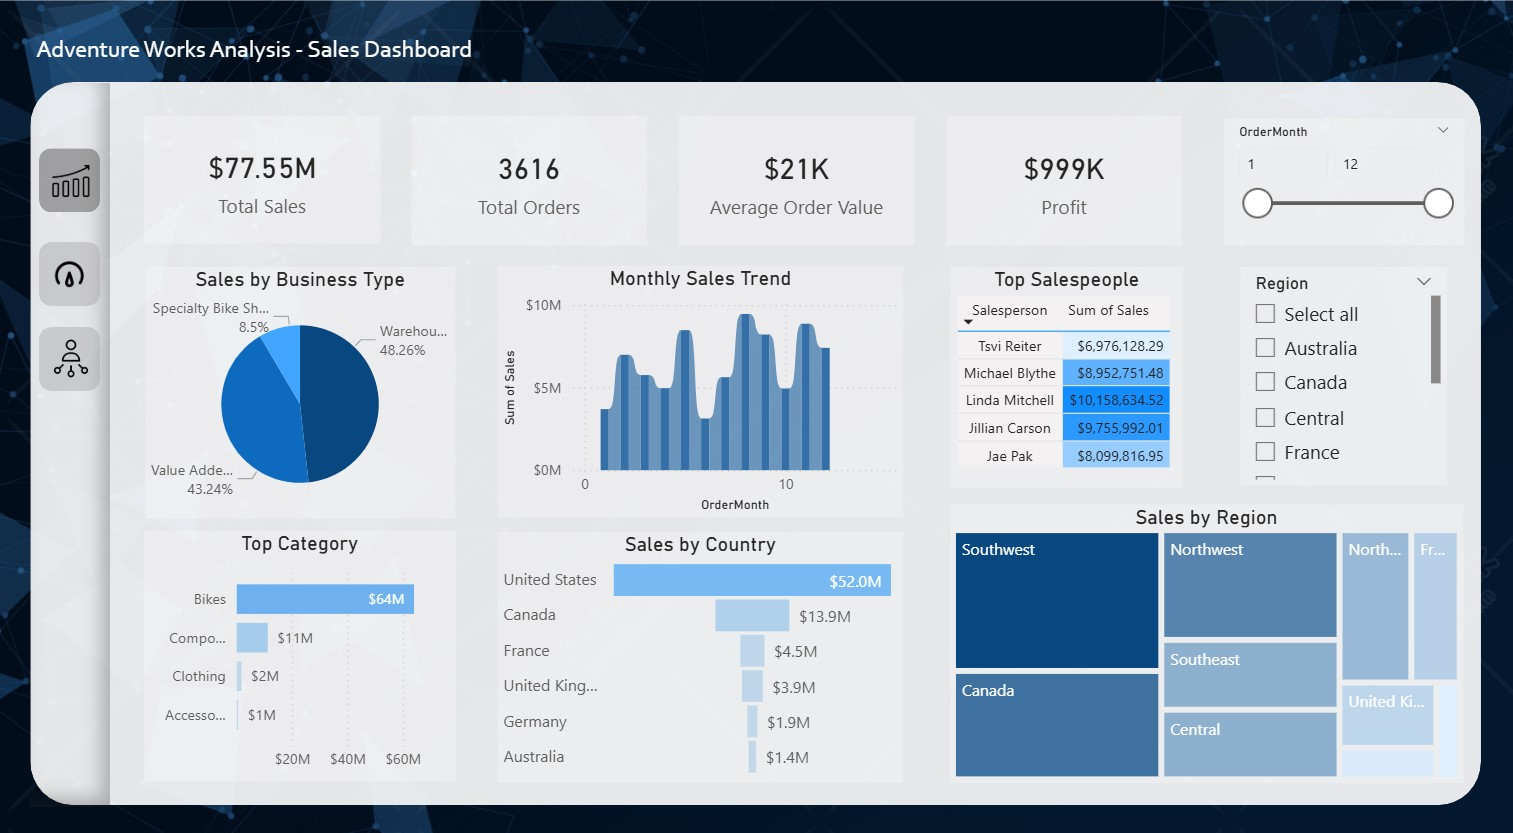

This screenshot's page, from the dashboard's own definition file:
{"tool":"powerbi","page":{"name":"Sales Dashboard","canvas":[1280,720],"ordinal":0},"visuals":[{"type":"image","box":[0,0,1280,720],"z":0},{"type":"shape","box":[30,80,1216.7,606.7],"z":1000},{"type":"shape","box":[29.3,80.5,68.3,607.3],"z":2000},{"type":"card","fields":{"Values":["_Measures.Profit"]},"box":[798.8,107.5,197.5,108.8],"z":3000},{"type":"card","fields":{"Values":["_Measures.Total Sales"]},"box":[126.2,107.5,198.8,107.5],"z":4000},{"type":"card","fields":{"Values":["_Measures.Total Orders"]},"box":[350,107.5,197.5,108.8],"z":5000},{"type":"treemap","title":"Sales by Region","fields":{"Group":["Region.Region"],"Values":["Sum(Sales.Sales)"]},"box":[802.2,434.4,430,233.3],"z":6000},{"type":"card","fields":{"Values":["_Measures.Average Order Value"]},"box":[575,107.5,197.5,108.8],"z":7000},{"type":"ribbonChart","title":"Monthly Sales Trend","fields":{"Category":["Sales.OrderMonth"],"Y":["Sum(Sales.Sales)"]},"box":[422.9,234.3,340,211.4],"z":8000},{"type":"funnel","title":"Sales by Country","fields":{"Y":["Sum(Sales.Sales)"],"Category":["Region.Country"]},"box":[422.9,457.1,340,210],"z":9000},{"type":"barChart","title":"Top Category","fields":{"Y":["Sum(Sales.Sales)"],"Category":["Product.Category"]},"box":[125.7,455.7,261.4,210],"z":10000},{"type":"tableEx","title":"Top Salespeople","fields":{"Values":["Salesperson.Salesperson","Sum(Sales.Sales)"]},"box":[802.2,234.4,195.6,185.6],"z":11000},{"type":"slicer","fields":{"Values":["Region.Region"]},"box":[1045.6,234.4,173.3,183.3],"z":13000},{"type":"slicer","fields":{"Values":["Sales.OrderMonth"]},"box":[1031.2,110,201.2,106.2],"z":14000},{"type":"textbox","title":"Adventure Works Analysis - Sales Dashboard","box":[30,40,380,30],"z":15000},{"type":"shape","box":[37.5,135,51.2,53.8],"z":16000},{"type":"shape","box":[37.5,213.8,51.2,53.8],"z":17000},{"type":"shape","box":[37.5,285,51.2,53.8],"z":18000},{"type":"pieChart","title":"Sales by Business Type","fields":{"Category":["Reseller.Business Type"],"Y":["Sum(Sales.Sales)"]},"box":[126.7,234.4,260,211.1],"z":19000},{"type":"image","box":[41.7,285.8,43.3,53.3],"z":22001},{"type":"image","box":[43.8,220,38.8,42.5],"z":22002},{"type":"image","box":[42.5,140,41.7,42.5],"z":22003}]}

Visuals, with their boxes on the page's 1280x720 design canvas (x1, y1, x2, y2). These are canvas units, not pixel positions in the 1513x833 screenshot, which may show the page scaled, cropped or inside an application window:
image: 0 0 1280 720
shape: 30 80 1247 687
shape: 29 80 98 688
card - _Measures.Profit: 799 108 996 216
card - _Measures.Total Sales: 126 108 325 215
card - _Measures.Total Orders: 350 108 548 216
"Sales by Region" treemap: 802 434 1232 668
card - _Measures.Average Order Value: 575 108 772 216
"Monthly Sales Trend" ribbonChart: 423 234 763 446
"Sales by Country" funnel: 423 457 763 667
"Top Category" barChart: 126 456 387 666
"Top Salespeople" tableEx: 802 234 998 420
slicer - Region.Region: 1046 234 1219 418
slicer - Sales.OrderMonth: 1031 110 1232 216
"Adventure Works Analysis - Sales Dashboard" textbox: 30 40 410 70
shape: 38 135 89 189
shape: 38 214 89 268
shape: 38 285 89 339
"Sales by Business Type" pieChart: 127 234 387 446
image: 42 286 85 339
image: 44 220 83 262
image: 42 140 84 182
